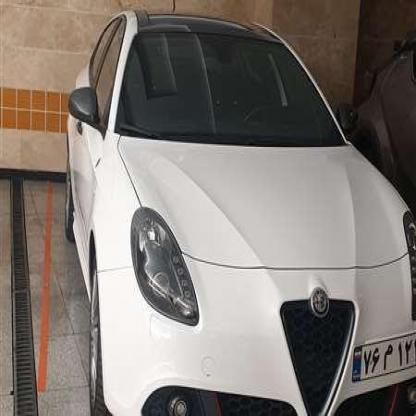Car: (54, 8, 416, 415)
